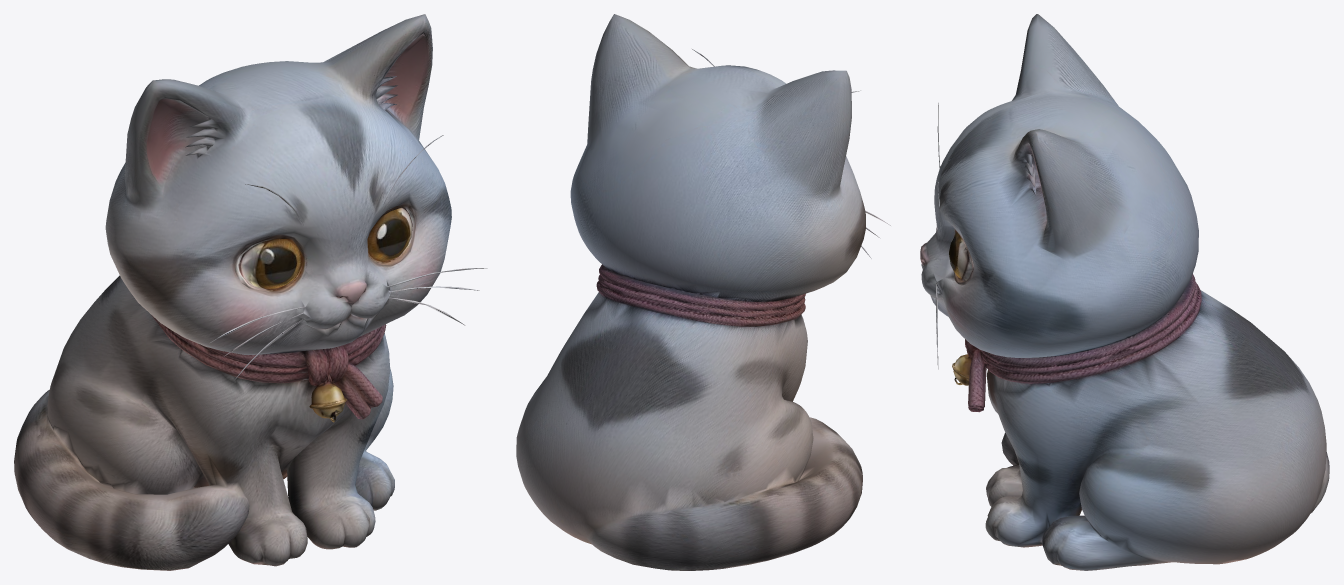
The model's file is pet-cat-runtime.glb.
The picture shows the model from 3 angles, left to right: view 1: azimuth 30°, elevation 25°; view 2: azimuth 150°, elevation 25°; view 3: azimuth 270°, elevation 25°; orthographic projection. The views are drawn at different scales.
Parts seen in each view (by area): view 1: node_0; view 2: node_0; view 3: node_0.
Boxes of the visible parts, left/top/right/bottom form: node_0: left=14, top=14, right=487, bottom=570; node_0: left=516, top=14, right=890, bottom=570; node_0: left=920, top=14, right=1329, bottom=570.
Bounding box in the file's own units: 0.7027 × 0.9503 × 0.7916.
Materials: 1 (1 with a texture image).
